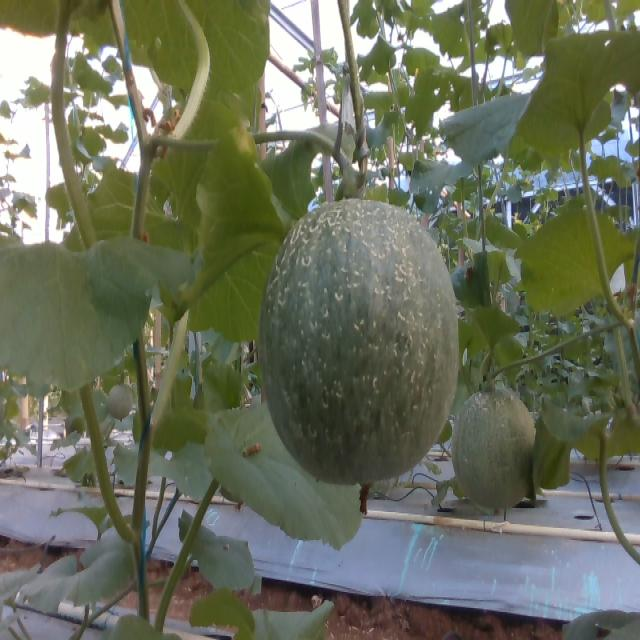melon: (259, 199, 459, 485)
